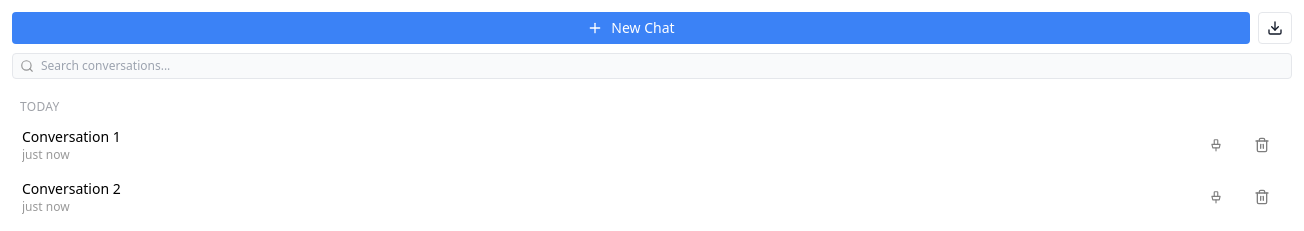
Test case: Global Search › navigates to conversation when clicking a search result
This screenshot has width=1304, height=231.
Type "target" into the field with test id "conversation-search".
click(652, 66); type("target")  # box [12,53,1292,79]
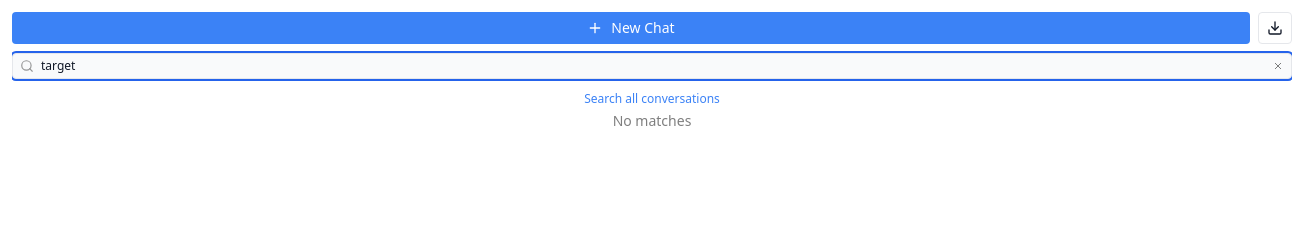
Expected: the button with test id "global-search-button" is shown
Click the button with test id "global-search-button".
click(652, 99)  # box [12,87,1292,111]
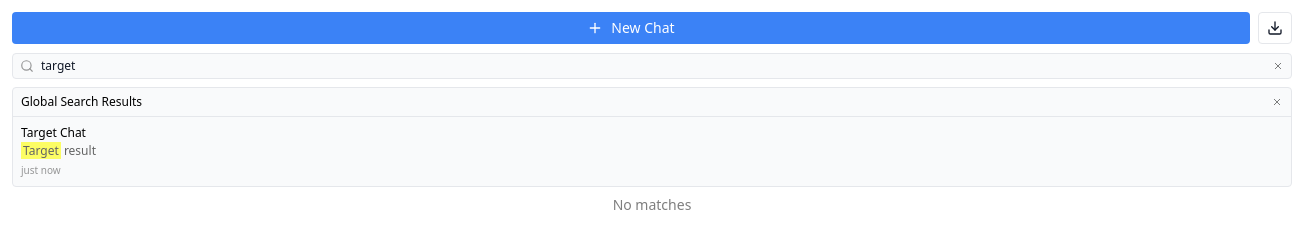
Expected: the button with test id "global-search-result" is shown
Click the button with test id "global-search-result".
click(53, 132)  # box [13,117,1291,186]
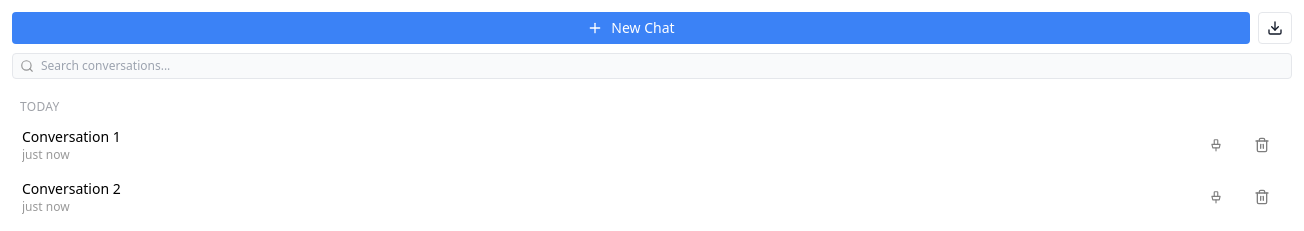
Expected: the element with test id "global-search-results" is gone
